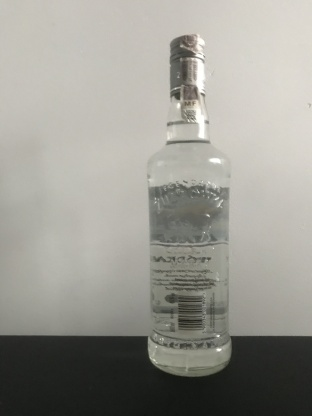nakretka: (167, 31, 207, 98)
